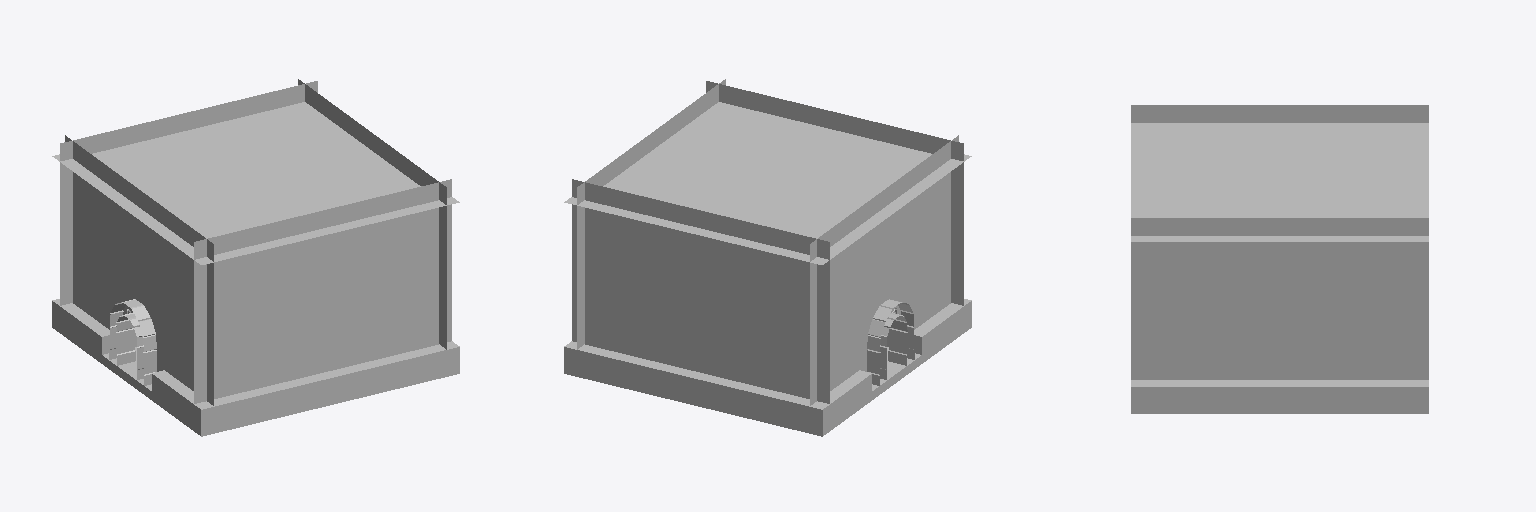
Rendered from end.obj.
3 renders of one model, left to right at view 1: azimuth 30°, elevation 25°; view 2: azimuth 150°, elevation 25°; view 3: azimuth 270°, elevation 25°, orthographic.
Visible parts, largest first — view 1: struct_wall_main_half_8, struct_ceiling_1, struct_wall_main_half_5, struct_wall_main_half_24, open_block_18, struct_wall_main_half_4, struct_door_2, block_default_0, struct_wall_main_half_12, struct_wall_main_half_7, open_block_20, open_block_19; view 2: struct_wall_main_half_24, struct_ceiling_1, struct_wall_main_half_4, struct_wall_main_half_8, open_block_19, struct_wall_main_half_5, struct_door_2, block_default_0, struct_wall_main_half_12, struct_wall_main_half_7, open_block_20, open_block_18; view 3: struct_wall_main_half_7, struct_ceiling_1, open_block_20, block_default_0, struct_wall_main_half_12, struct_wall_main_half_4, struct_wall_main_half_5.
Part boxes in pixels (bbox=[...]): struct_wall_main_half_8: bbox=[194, 179, 451, 403]; struct_ceiling_1: bbox=[52, 102, 459, 264]; struct_wall_main_half_5: bbox=[65, 135, 114, 329]; struct_wall_main_half_24: bbox=[60, 81, 317, 305]; open_block_18: bbox=[152, 362, 373, 427]; struct_wall_main_half_4: bbox=[165, 209, 213, 405]; struct_door_2: bbox=[109, 262, 164, 385]; block_default_0: bbox=[52, 319, 459, 436]; struct_wall_main_half_12: bbox=[115, 172, 164, 297]; struct_wall_main_half_7: bbox=[298, 79, 446, 349]; open_block_20: bbox=[367, 341, 459, 385]; open_block_19: bbox=[52, 299, 136, 354]; struct_wall_main_half_24: bbox=[572, 179, 829, 403]; struct_ceiling_1: bbox=[564, 102, 971, 264]; struct_wall_main_half_4: bbox=[909, 135, 958, 329]; struct_wall_main_half_8: bbox=[706, 81, 963, 305]; open_block_19: bbox=[650, 362, 871, 427]; struct_wall_main_half_5: bbox=[810, 209, 858, 405]; struct_door_2: bbox=[859, 262, 914, 385]; block_default_0: bbox=[564, 319, 971, 436]; struct_wall_main_half_12: bbox=[859, 172, 908, 297]; struct_wall_main_half_7: bbox=[577, 79, 725, 349]; open_block_20: bbox=[564, 341, 656, 385]; open_block_18: bbox=[887, 299, 971, 354]; struct_wall_main_half_7: bbox=[1131, 218, 1428, 379]; struct_ceiling_1: bbox=[1131, 123, 1428, 241]; open_block_20: bbox=[1131, 380, 1428, 404]; block_default_0: bbox=[1131, 405, 1428, 413]; struct_wall_main_half_12: bbox=[1230, 105, 1329, 122]; struct_wall_main_half_4: bbox=[1131, 105, 1229, 122]; struct_wall_main_half_5: bbox=[1330, 105, 1428, 122].
Bounding box in the file's own units: 3 × 2.1 × 3.